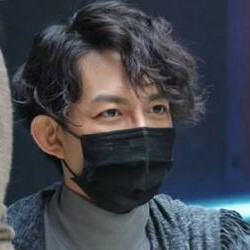mask: (42, 114, 178, 215)
